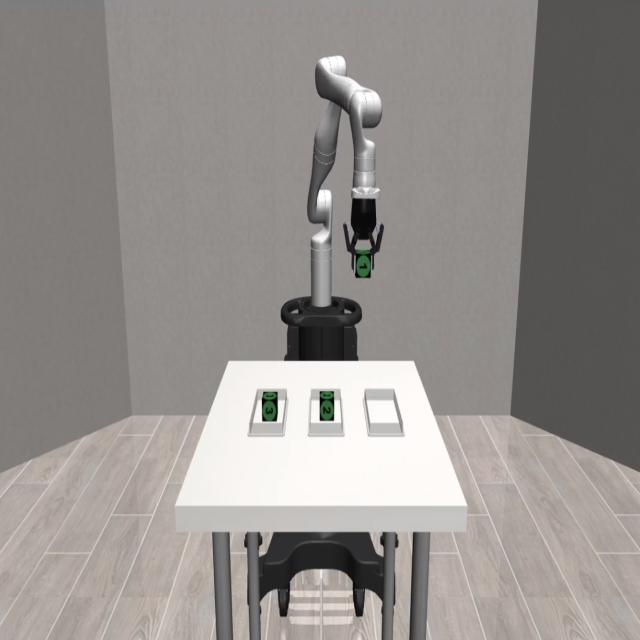cube1: (355, 250, 372, 280)
cube2: (319, 390, 334, 420)
cube3: (262, 390, 278, 422)
